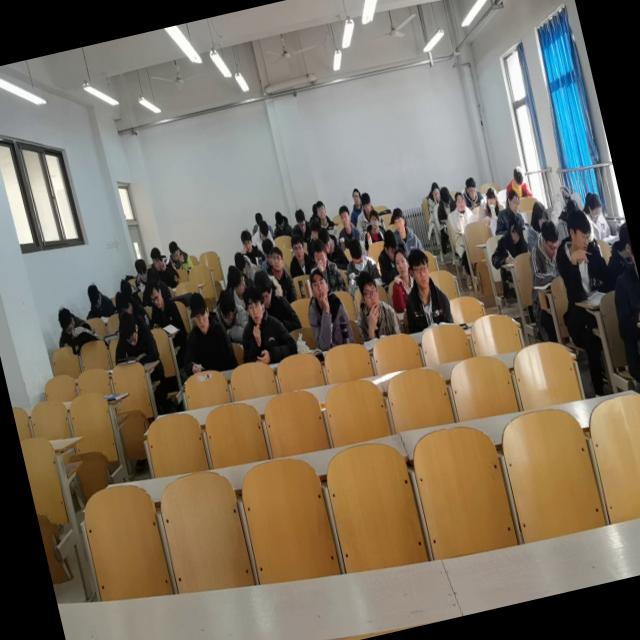bow: (104, 303, 161, 372), (208, 284, 253, 348), (482, 212, 531, 268), (48, 298, 91, 349), (166, 236, 194, 273)
down: (562, 204, 596, 259), (250, 266, 276, 310), (536, 218, 562, 259), (215, 285, 239, 327), (116, 310, 142, 348), (582, 188, 605, 225), (346, 235, 368, 272), (56, 304, 78, 336), (144, 278, 166, 310), (502, 184, 522, 216), (504, 214, 524, 246), (508, 160, 528, 191), (132, 254, 151, 284), (86, 282, 104, 312), (482, 184, 501, 212), (293, 206, 309, 234), (166, 238, 182, 264), (463, 176, 479, 201), (438, 184, 454, 208), (272, 210, 286, 232), (256, 220, 270, 240), (430, 182, 442, 203)
lookup: (184, 289, 214, 337), (406, 244, 436, 292), (354, 267, 384, 310), (240, 286, 267, 326), (305, 264, 332, 303), (390, 248, 412, 278), (308, 238, 329, 269), (288, 232, 308, 262), (238, 227, 256, 255), (268, 245, 286, 272), (336, 202, 353, 230), (313, 196, 329, 222), (358, 190, 374, 215), (452, 188, 467, 214), (367, 208, 382, 230), (350, 186, 362, 207)
sit: (542, 202, 615, 308), (167, 284, 238, 378), (228, 281, 299, 368), (296, 262, 354, 352), (392, 246, 452, 332), (345, 266, 398, 342), (519, 220, 568, 288), (336, 232, 384, 296), (379, 244, 421, 316), (140, 273, 184, 333), (308, 233, 348, 299), (264, 242, 298, 306), (386, 202, 422, 256), (581, 188, 613, 243), (282, 230, 315, 279), (330, 202, 363, 250), (80, 279, 116, 323), (445, 186, 477, 233), (312, 196, 341, 246), (501, 160, 532, 200), (238, 226, 266, 270), (429, 184, 458, 224), (358, 210, 388, 248), (268, 207, 294, 239)
